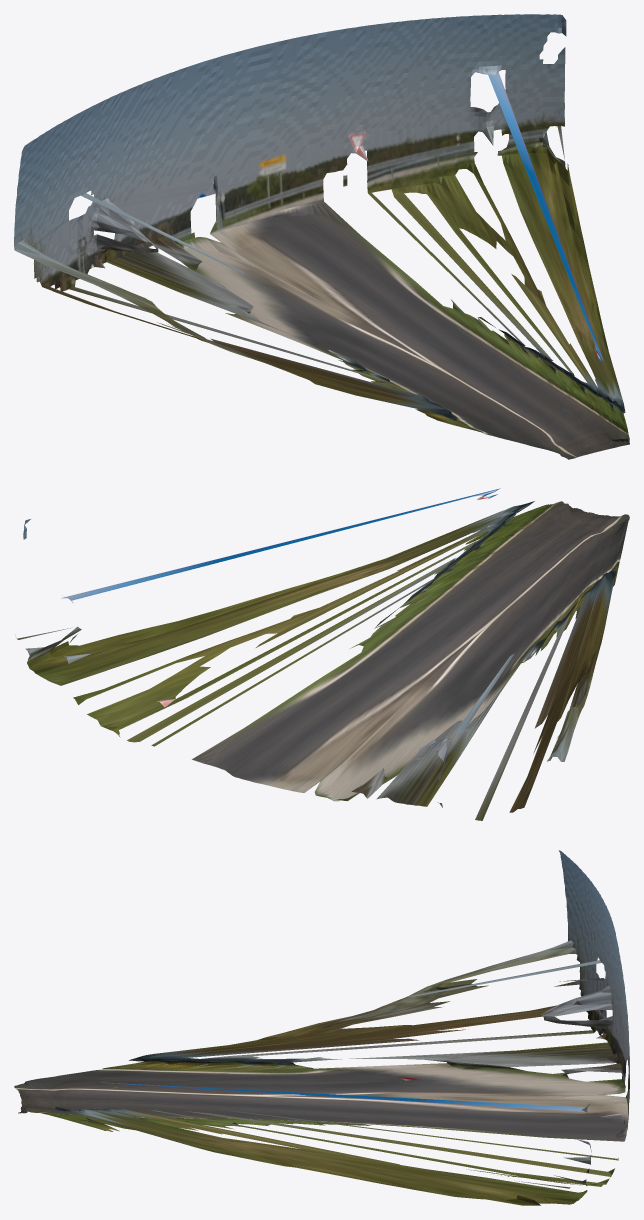
3 renders of one model, top to bottom at view 1: azimuth 30°, elevation 25°; view 2: azimuth 150°, elevation 25°; view 3: azimuth 270°, elevation 25°, orthographic. The views are drawn at different scales.
Parts seen in each view (by area): view 1: defaultobject; view 2: defaultobject; view 3: defaultobject.
Boxes of the visible parts, x1,y1,x2,y2 form: defaultobject: (14, 14, 629, 459); defaultobject: (16, 488, 629, 820); defaultobject: (14, 850, 629, 1205).
Size of the model in its own units: 41.16 by 13.18 by 44.8.
Materials: 1 (1 with a texture image).
